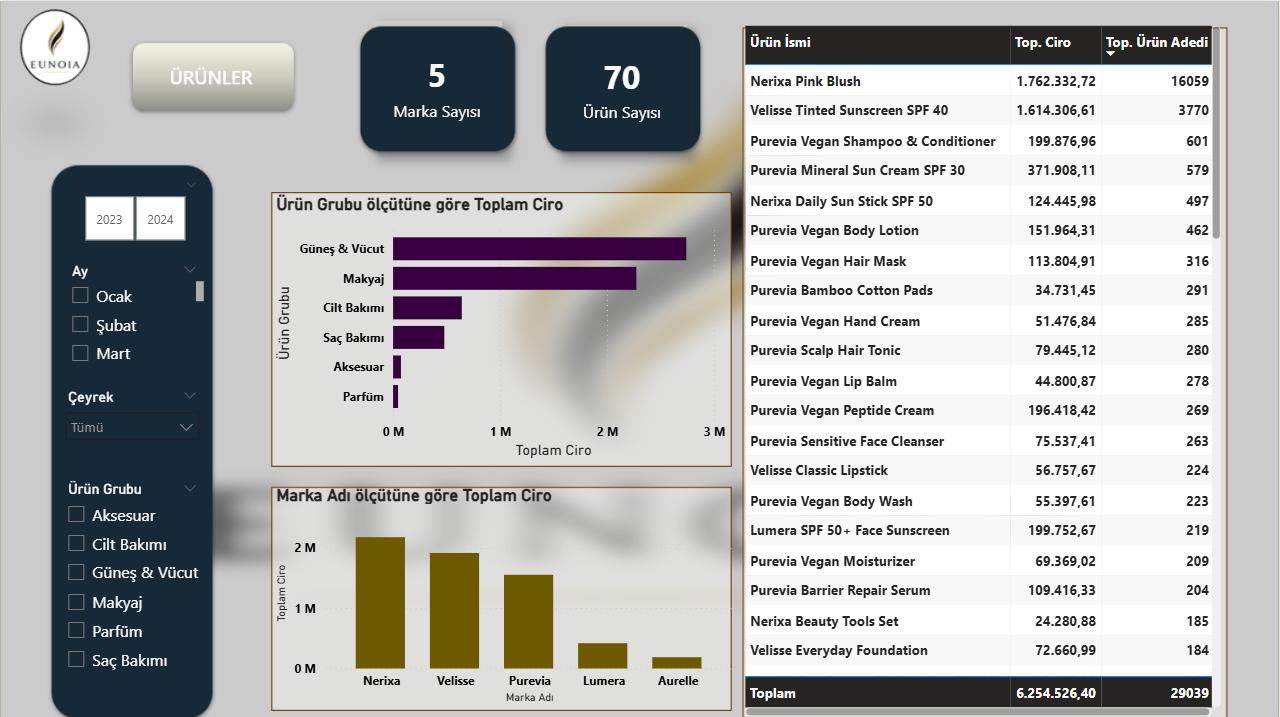

This screenshot's page, from the dashboard's own definition file:
{"tool":"powerbi","page":{"name":"Ürünler","canvas":[1280,720],"ordinal":3},"visuals":[{"type":"card","fields":{"Values":["public brand_targets.Top Marka Sayısı"]},"box":[373.8,20,128.8,130],"z":0},{"type":"card","fields":{"Values":["public brand_targets.Toplam Ürün Sayısı"]},"box":[558.8,23.8,128.8,126.2],"z":1000},{"type":"slicer","fields":{"Values":["public orders.order_date.Varyasyon.Tarih Hiyerarşisi.Yıl"]},"box":[60,173.8,150,72.5],"z":2000},{"type":"slicer","fields":{"Values":["public orders.order_date.Varyasyon.Tarih Hiyerarşisi.Ay"]},"box":[60,256.2,150,113.8],"z":3000},{"type":"slicer","fields":{"Values":["public categories.product_group"]},"box":[56.2,475,153.8,207.5],"z":4000},{"type":"slicer","fields":{"Values":["public orders.order_date.Varyasyon.Tarih Hiyerarşisi.Çeyrek"]},"box":[56.2,382.5,153.8,80],"z":5000},{"type":"clusteredColumnChart","fields":{"Category":["public brands.brand_name"],"Y":["public brand_targets.Toplam Ciro (Tamamlanmış)"]},"box":[272.5,483.8,467.5,223.8],"z":6000},{"type":"clusteredBarChart","fields":{"Category":["public categories.product_group"],"Y":["public brand_targets.Toplam Ciro (Tamamlanmış)"]},"box":[272.5,192.5,458.8,270],"z":7000},{"type":"tableEx","fields":{"Values":["public products.product_name","public brand_targets.Toplam Ciro (Tamamlanmış)","public brand_targets.Toplam Ürün Adedi"]},"box":[740.5,20.2,486.9,700],"z":8000}]}

Visuals, with their boxes in screenshot pixels (x1, y1, x2, y2), scaled from the page's 1280x720 canvas onto the 1280x717 screenshot:
card - public brand_targets.Top Marka Sayısı: [374, 20, 503, 149]
card - public brand_targets.Toplam Ürün Sayısı: [559, 24, 688, 149]
slicer - public orders.order_date.Varyasyon.Tarih Hiyerarşisi.Yıl: [60, 173, 210, 245]
slicer - public orders.order_date.Varyasyon.Tarih Hiyerarşisi.Ay: [60, 255, 210, 368]
slicer - public categories.product_group: [56, 473, 210, 680]
slicer - public orders.order_date.Varyasyon.Tarih Hiyerarşisi.Çeyrek: [56, 381, 210, 461]
clusteredColumnChart - public brands.brand_name x public brand_targets.Toplam Ciro (Tamamlanmış): [272, 482, 740, 705]
clusteredBarChart - public categories.product_group x public brand_targets.Toplam Ciro (Tamamlanmış): [272, 192, 731, 461]
tableEx - public products.product_name x public brand_targets.Toplam Ciro (Tamamlanmış): [740, 20, 1227, 716]
